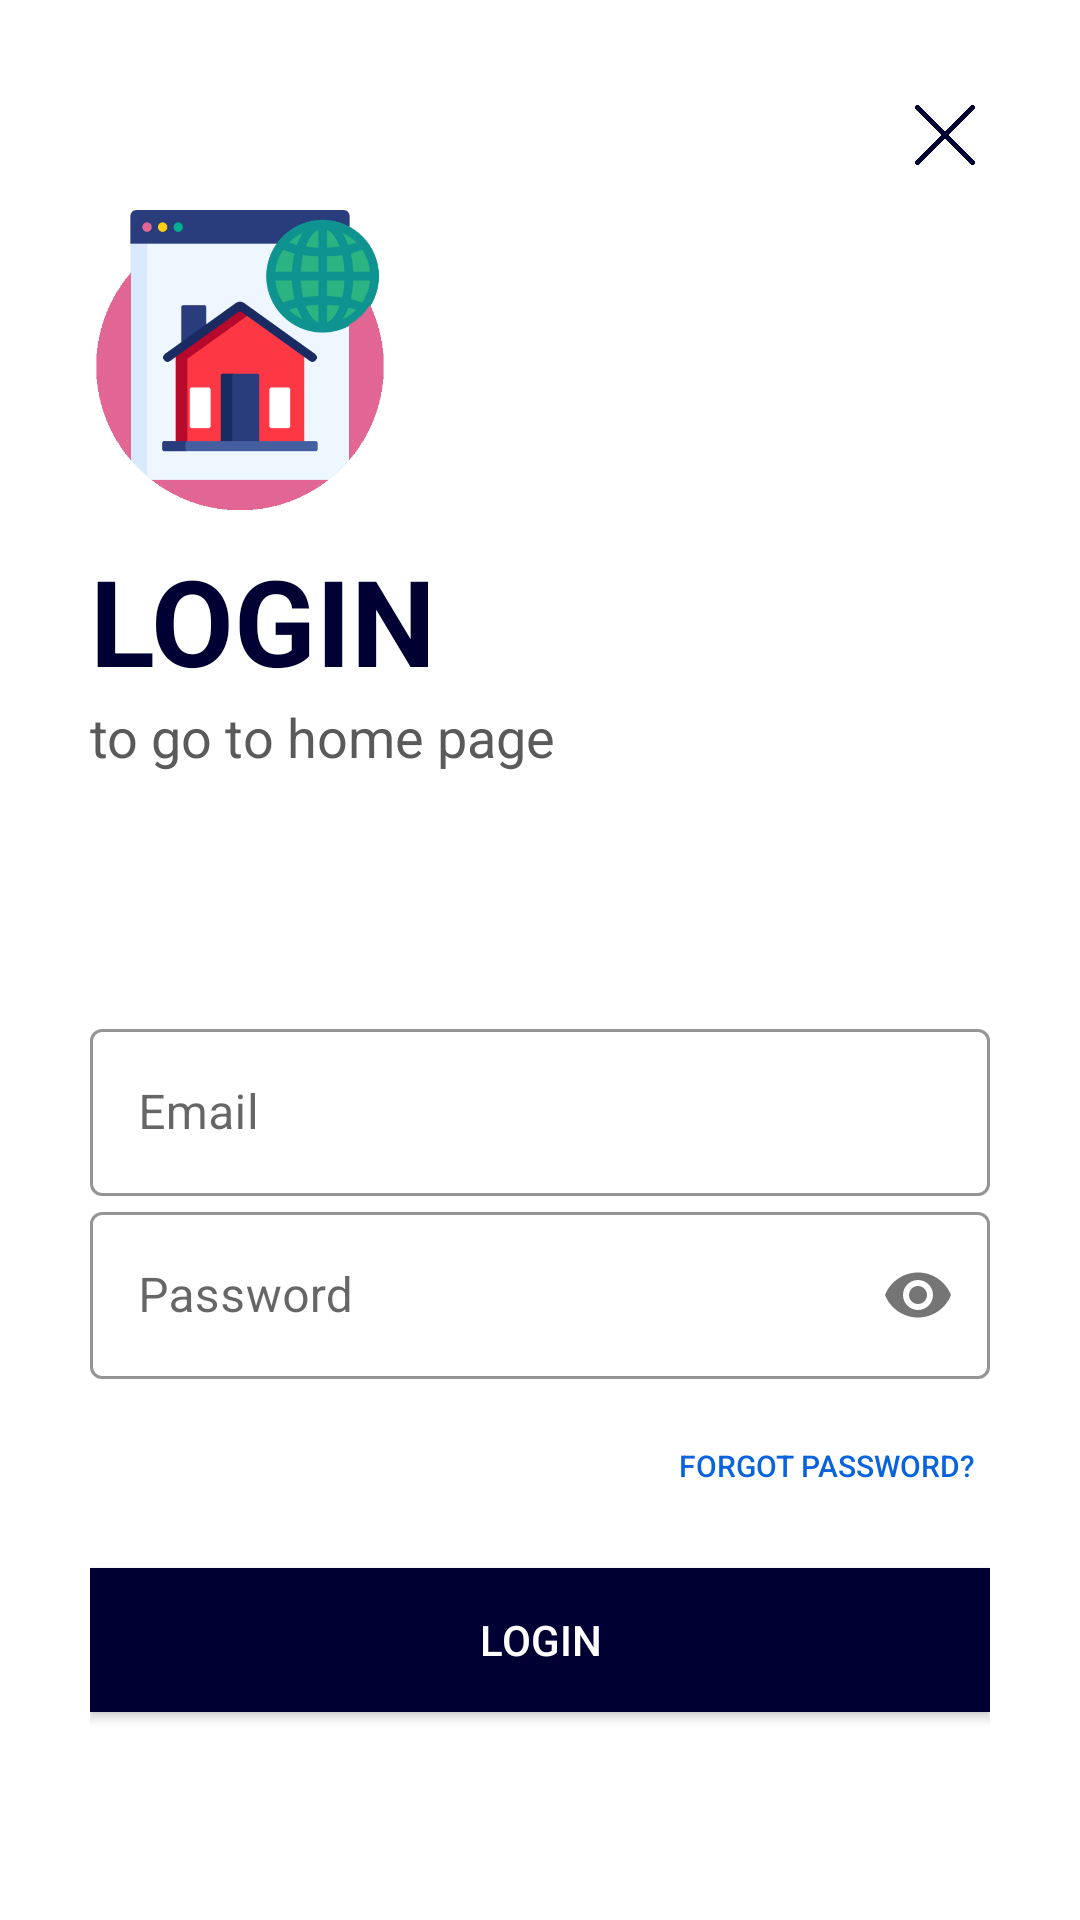

Named icons in this screenshot (1080 × 1920) and their centers, point (x, y):
cancel: point (945, 135)
homepage: point (240, 360)
